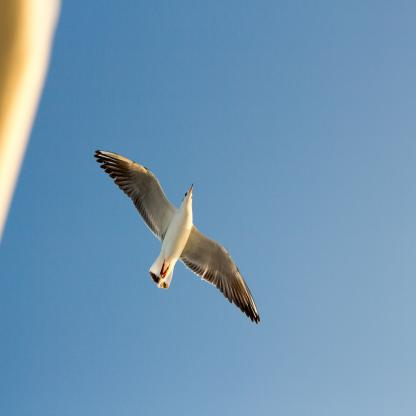bird: (95, 150, 260, 324)
